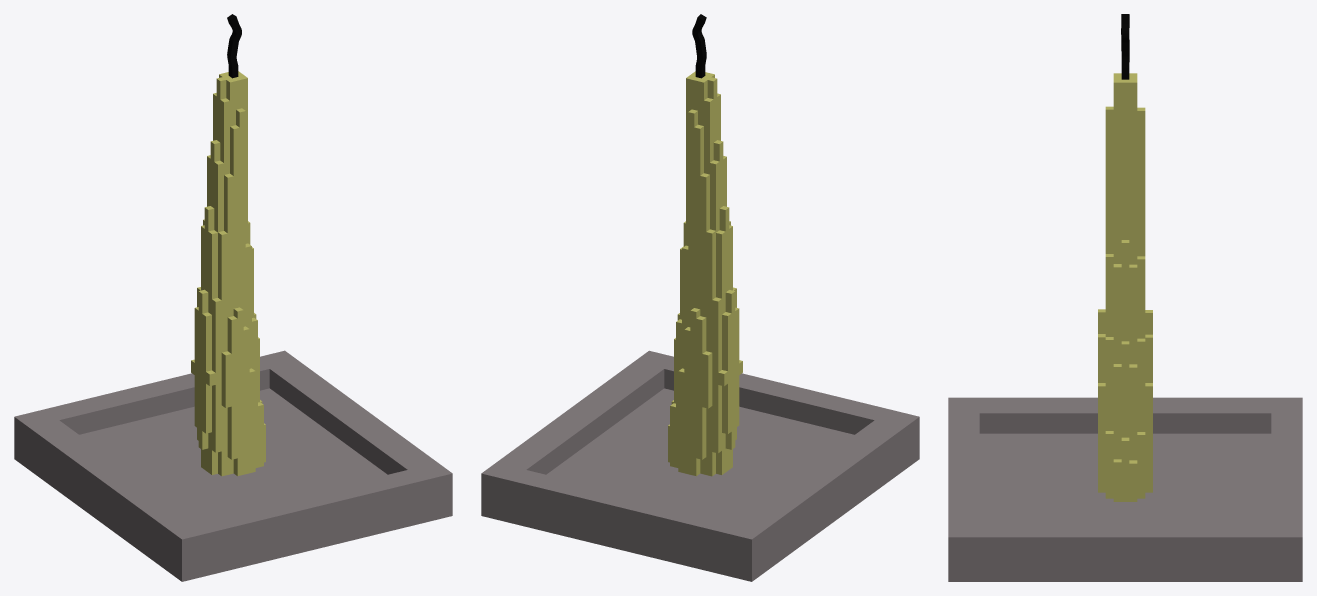
File: velas.fbx
3 renders of one model, left to right at view 1: azimuth 30°, elevation 25°; view 2: azimuth 150°, elevation 25°; view 3: azimuth 270°, elevation 25°, orthographic. The views are drawn at different scales.
Parts seen in each view (by area): view 1: Cube; view 2: Cube; view 3: Cube.
Boxes of the visible parts, x1=… form: Cube: x1=14, y1=14, x2=452, y2=581; Cube: x1=481, y1=14, x2=919, y2=581; Cube: x1=948, y1=14, x2=1302, y2=581.
Bounding box in the file's own units: 27 × 45 × 29.
